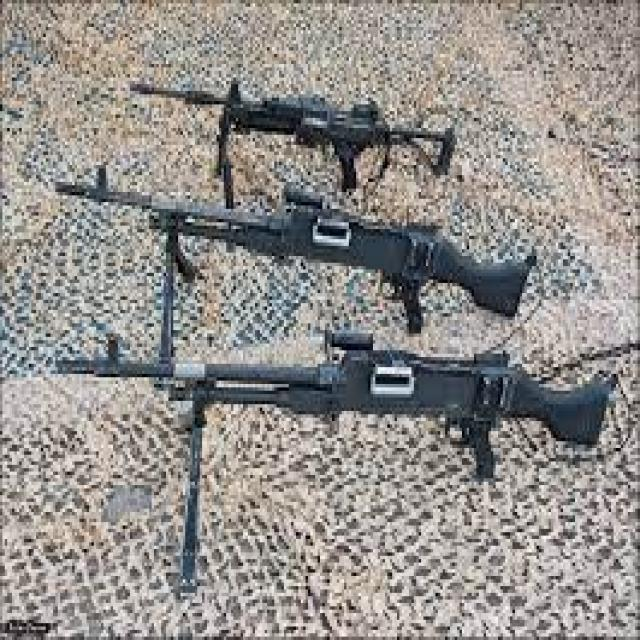weapon: (55, 324, 612, 582), (54, 168, 532, 334), (130, 78, 458, 191)
